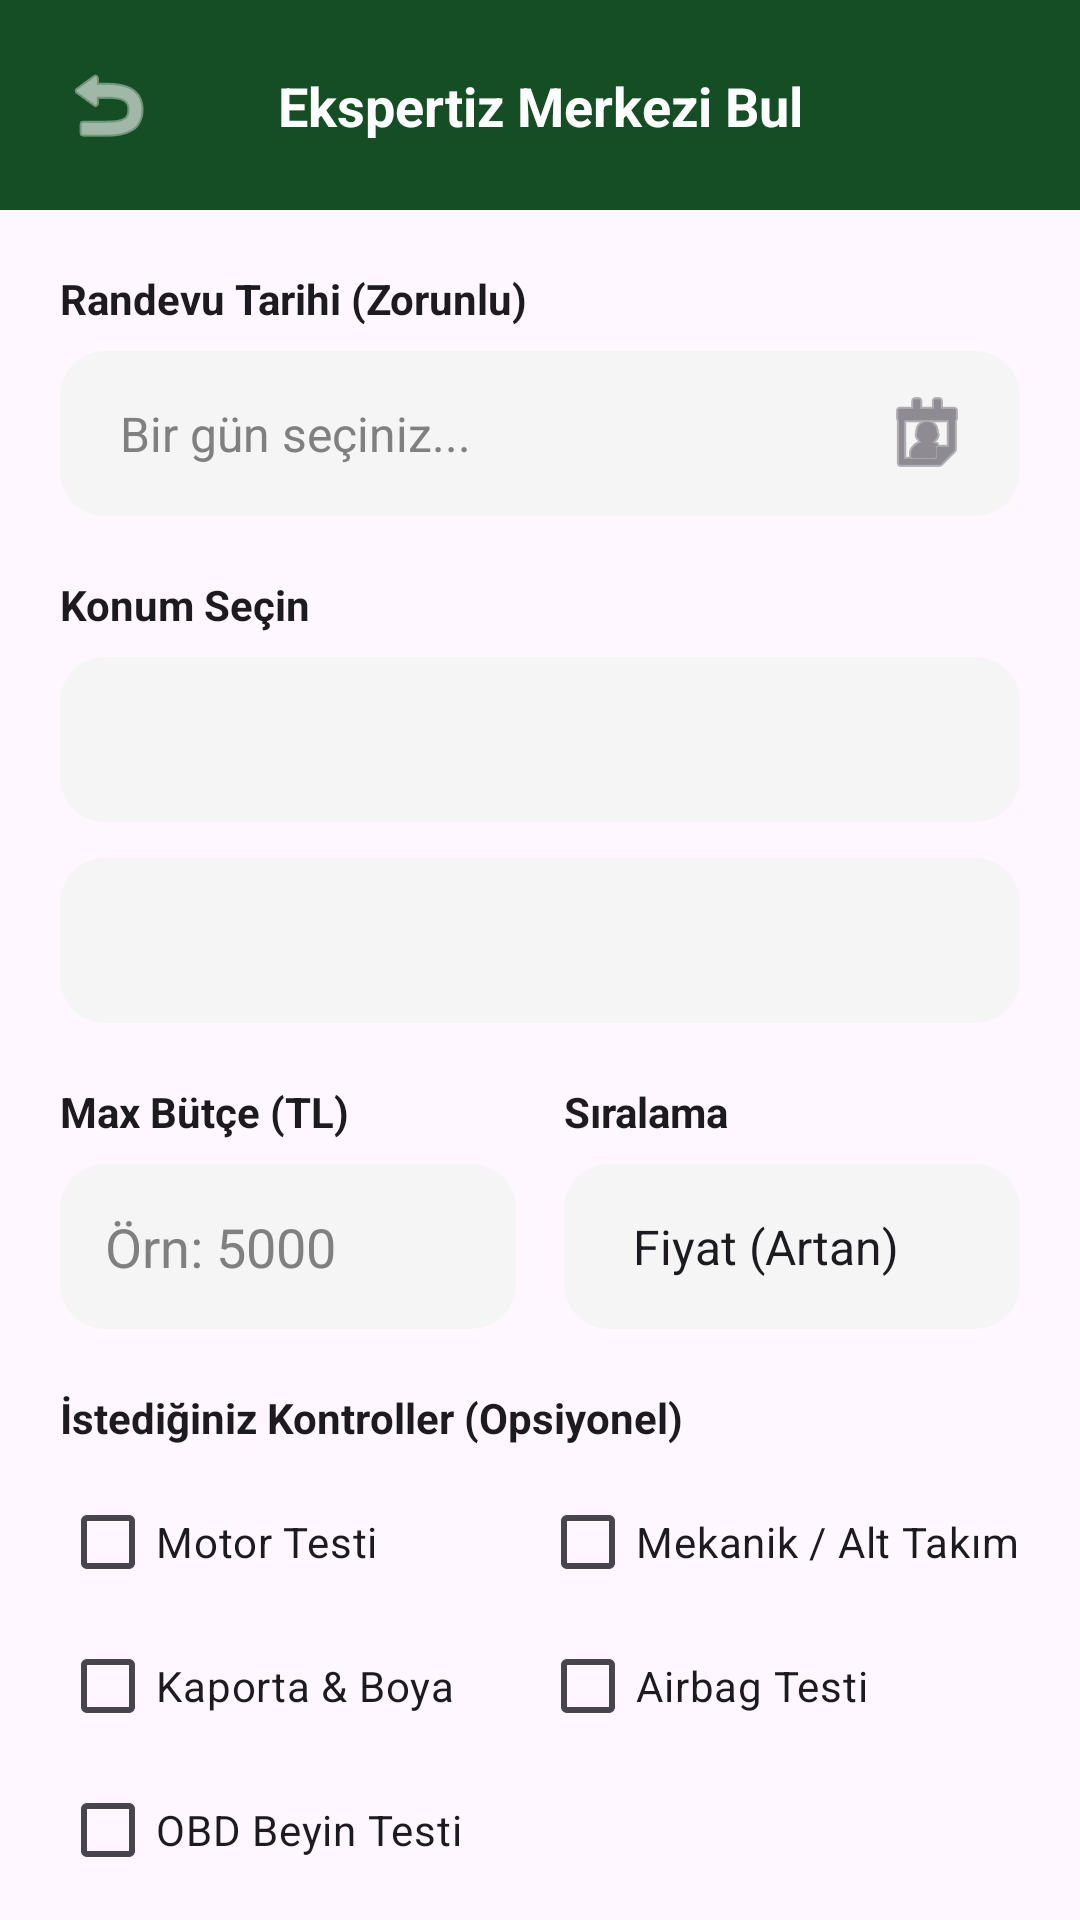

Where icons sit on this 1080 × 1920 app screen, as box(x1, y1, x2, y2):
revert: box(75, 74, 144, 137)
